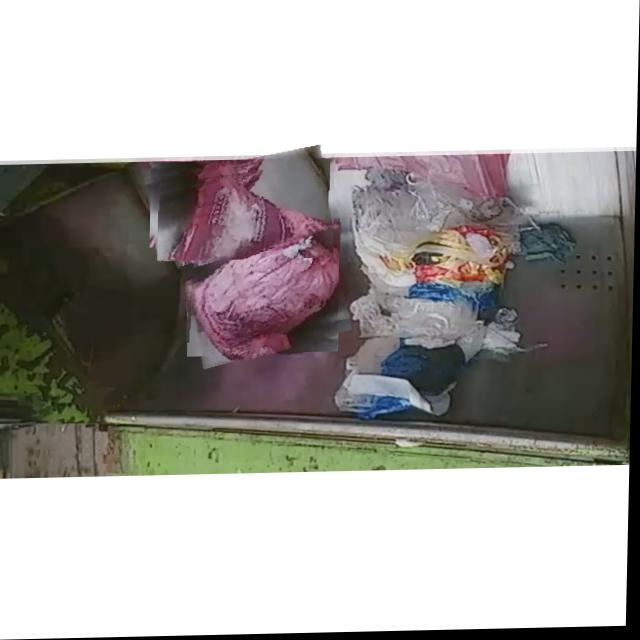other_trashbag: (191, 221, 340, 362), (164, 173, 334, 261)
